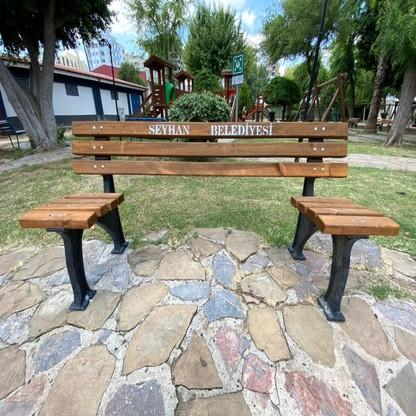obstacle: (11, 106, 399, 327)
